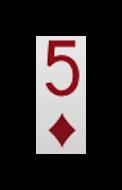5D: (40, 38, 83, 151)
